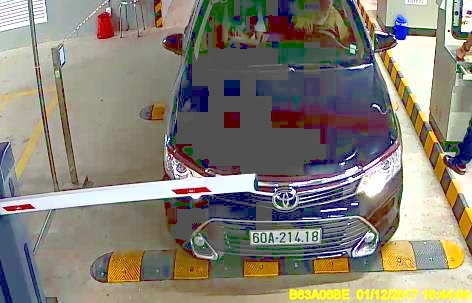plate: (245, 225, 322, 246)
